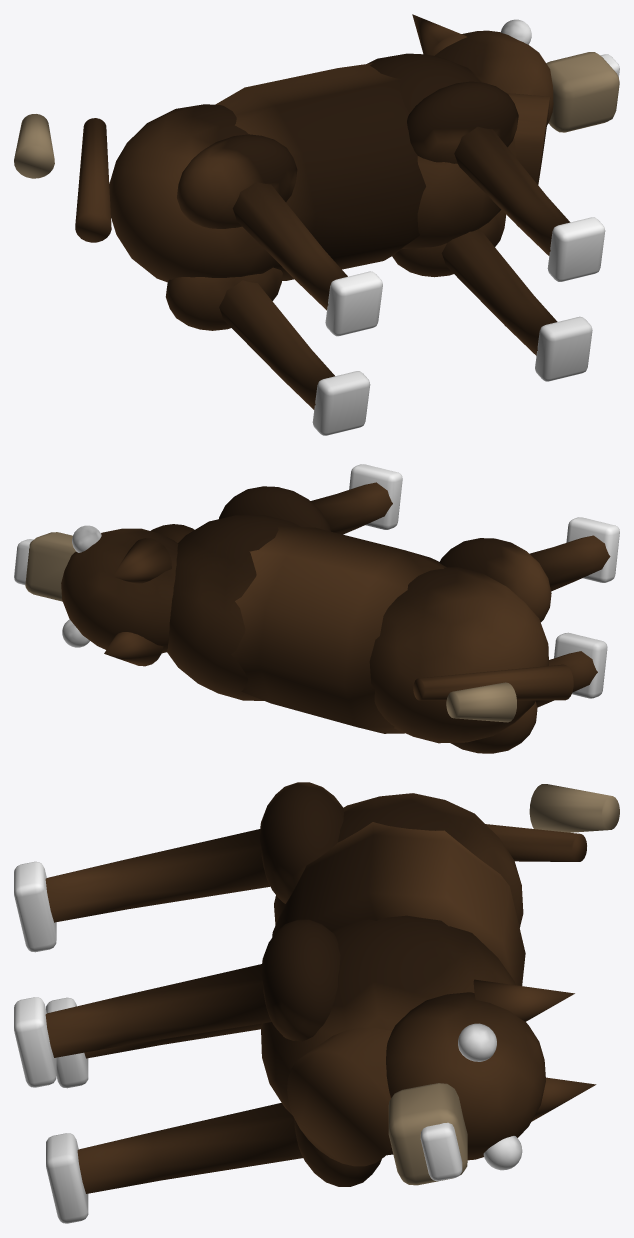
Rendered from coyote-corpse.obj.
The picture shows the model from 3 angles, top to bottom: view 1: azimuth 30°, elevation 25°; view 2: azimuth 150°, elevation 25°; view 3: azimuth 270°, elevation 25°; orthographic projection. The views are drawn at different scales.
Parts seen in each view (by area): view 1: coyote-corpse; view 2: coyote-corpse; view 3: coyote-corpse.
Part boxes in pixels (box(x1,y1,x2,y2)): coyote-corpse: box(14, 14, 619, 435); coyote-corpse: box(14, 464, 619, 753); coyote-corpse: box(14, 782, 619, 1223).
Bounding box in the file's own units: 1.4 × 0.5425 × 1.06.
